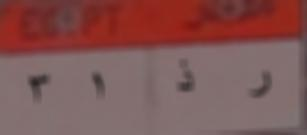1: (83, 68, 116, 108)
3: (25, 70, 53, 113)
raa: (246, 65, 275, 105)
zaal: (171, 52, 203, 100)
